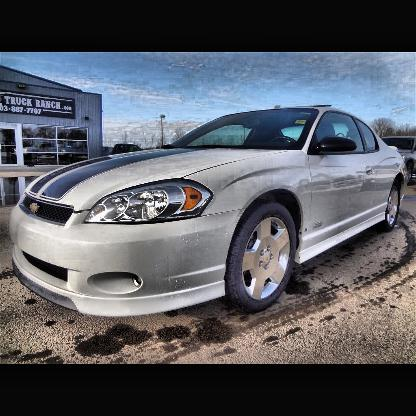Chevrolet Monte Carlo Coupe 2007: (10, 103, 411, 324)
